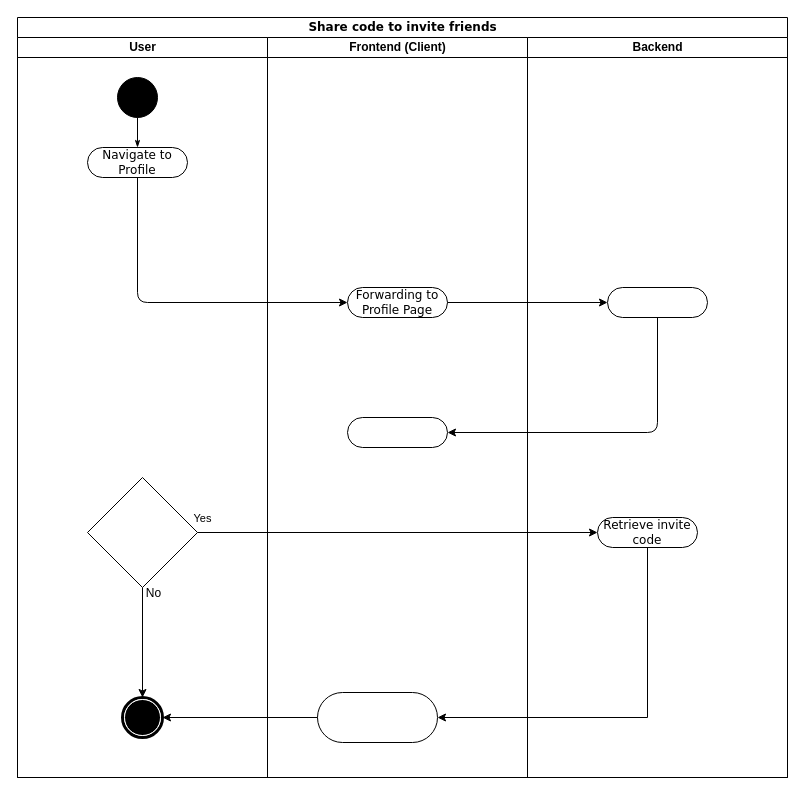
Image size: 805x795. Some labels were removed from this diagram. Here are the shapes that lost their labels. From the top down, the centre of each, then its label:
point 657,302: Retrieve User-Data
point 397,432: Display all User-Data
point 142,532: Click "Invite Friends"
point 377,717: Display invite code
